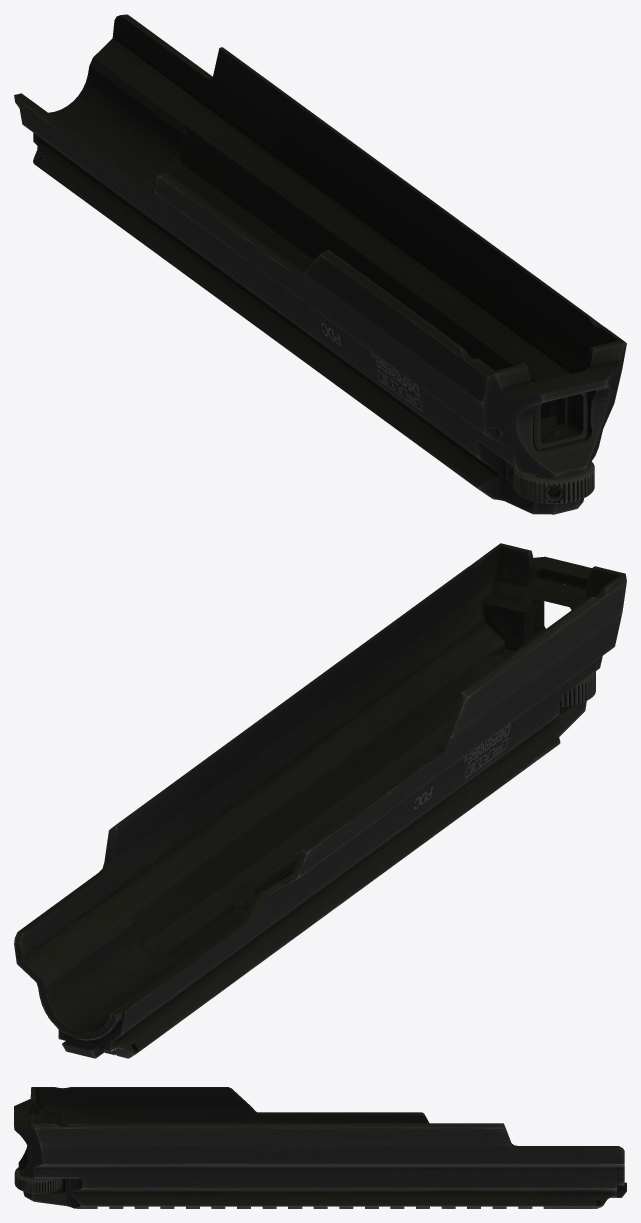
3 renders of one model, top to bottom at view 1: azimuth 30°, elevation 25°; view 2: azimuth 150°, elevation 25°; view 3: azimuth 270°, elevation 25°, orthographic. The views are drawn at different scales.
Visible parts, largest first — view 1: TW_5d2c770c48f0354b4a07c100_PZ_Import; view 2: TW_5d2c770c48f0354b4a07c100_PZ_Import; view 3: TW_5d2c770c48f0354b4a07c100_PZ_Import.
Part boxes in pixels (left/top/right/bottom): TW_5d2c770c48f0354b4a07c100_PZ_Import: left=14, top=14, right=626, bottom=514; TW_5d2c770c48f0354b4a07c100_PZ_Import: left=14, top=543, right=626, bottom=1058; TW_5d2c770c48f0354b4a07c100_PZ_Import: left=14, top=1087, right=626, bottom=1208.
Bounding box in the file's own units: 0.0216 × 0.1404 × 0.024.
1 material, 1 textured.
